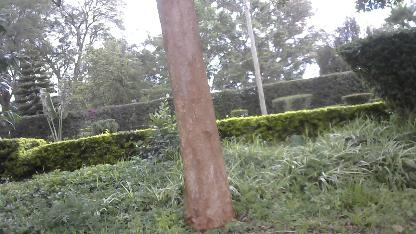tree: (154, 0, 241, 230)
